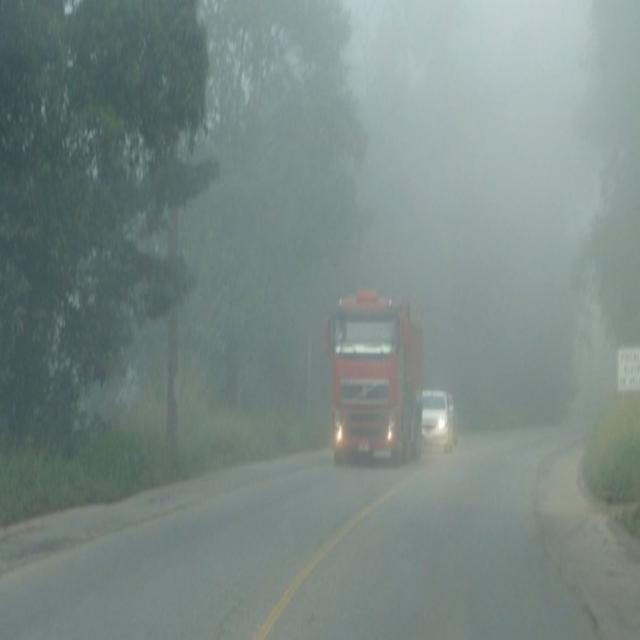bus: (326, 298, 426, 463)
car: (420, 389, 454, 451)
